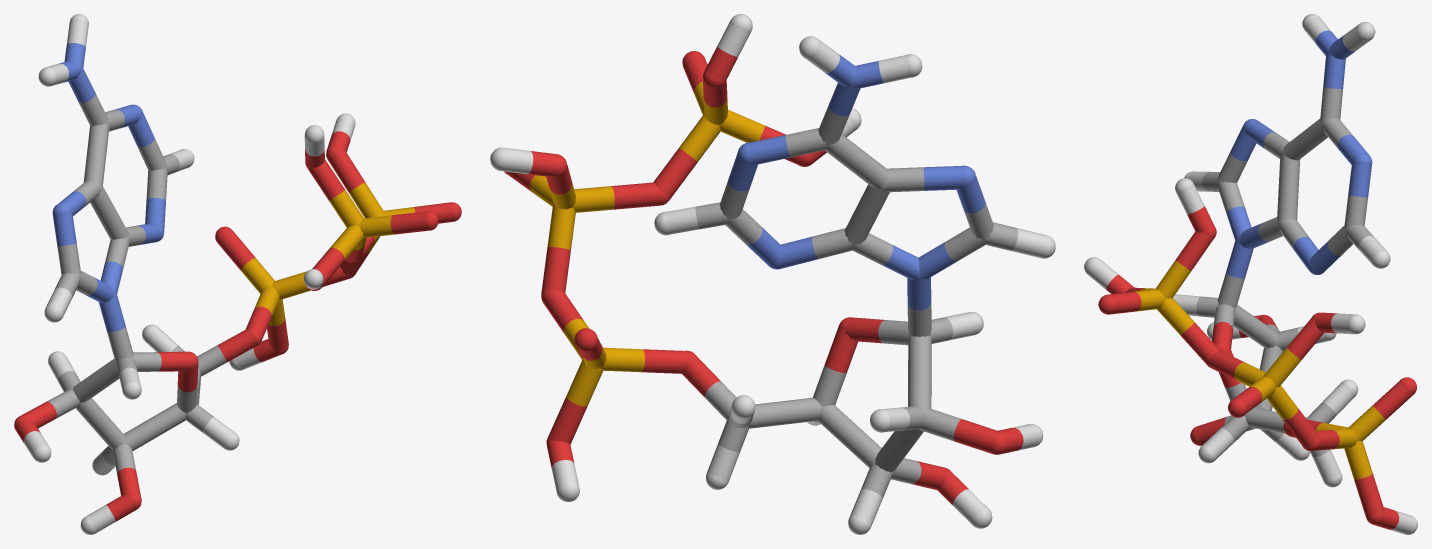
The model's file is atp-sticks.glb.
The picture shows the model from 3 angles, left to right: view 1: azimuth 30°, elevation 25°; view 2: azimuth 150°, elevation 25°; view 3: azimuth 270°, elevation 25°; orthographic projection. The views are drawn at different scales.
Parts seen in each view (by area): view 1: atp-sticks; view 2: atp-sticks; view 3: atp-sticks.
Boxes of the visible parts, bbox=[...] form: atp-sticks: bbox=[14, 14, 461, 534]; atp-sticks: bbox=[490, 14, 1055, 534]; atp-sticks: bbox=[1084, 14, 1417, 534].
Size of the model in its own units: 10.23 by 9.99 by 6.64.
